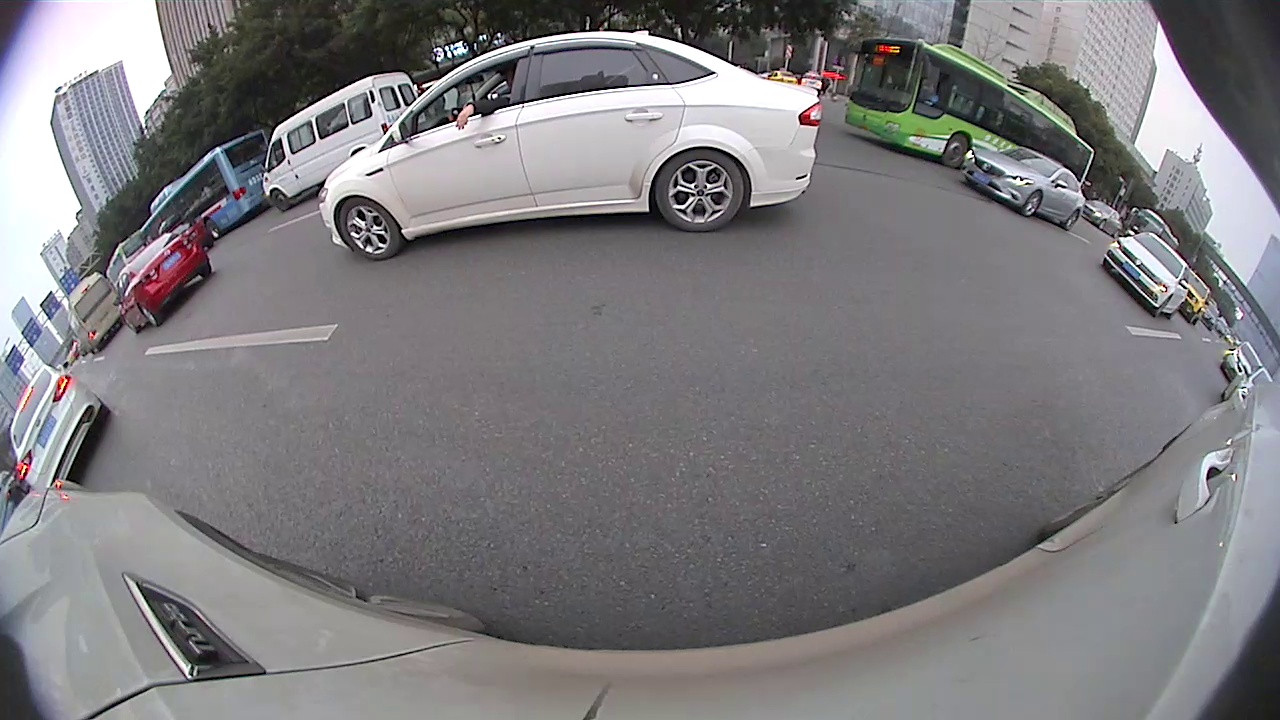bus: (848, 37, 1093, 184), (143, 130, 267, 238), (62, 275, 121, 353)
car: (319, 29, 819, 266), (261, 73, 418, 213), (10, 367, 109, 486), (965, 145, 1085, 228), (122, 227, 213, 333), (1101, 230, 1193, 318), (1220, 341, 1260, 383)
front: (338, 201, 399, 260), (944, 135, 971, 168), (1024, 192, 1043, 216), (271, 191, 288, 212)
rear: (656, 149, 745, 233), (138, 305, 163, 326), (1062, 209, 1081, 230), (205, 218, 218, 236)
